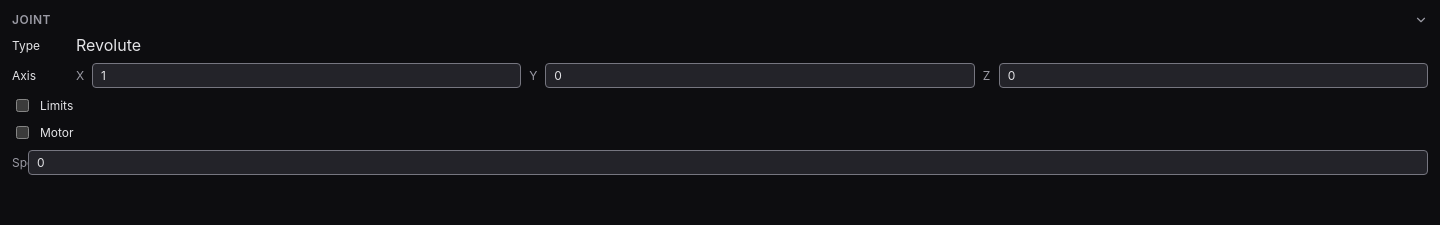
it: JointPropertiesSection (§19, M4.3) › toggling Limits shows Min/Max fields; unchecking reverts to unlimited
The image size is (1440, 225).
Click the checkbox labelled "Limits". click: (22, 106)
box: [16,99,29,112]
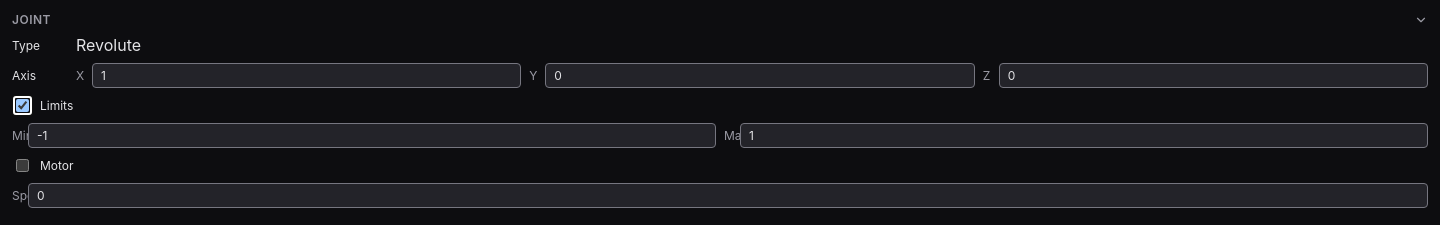
Now the number field labelled "Min" is shown, box [28,123,716,148]
Now the number field labelled "Max" is shown, box [740,123,1428,148]
Click the checkbox labelled "Limits". click: (22, 106)
box: [16,99,29,112]
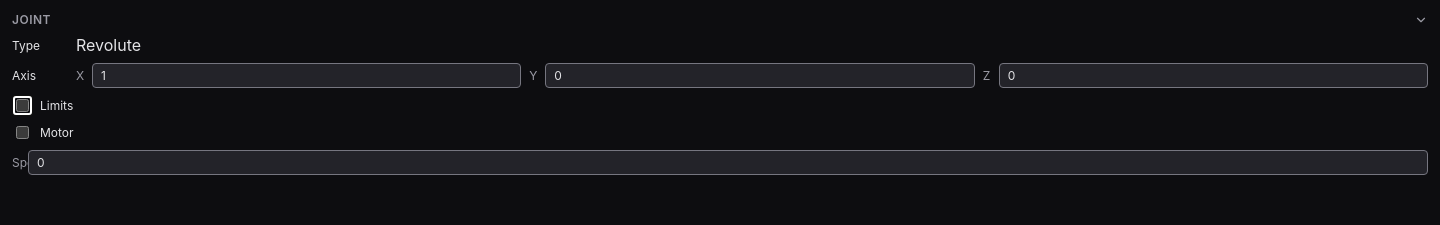
Now the text labelled "Min" is gone
